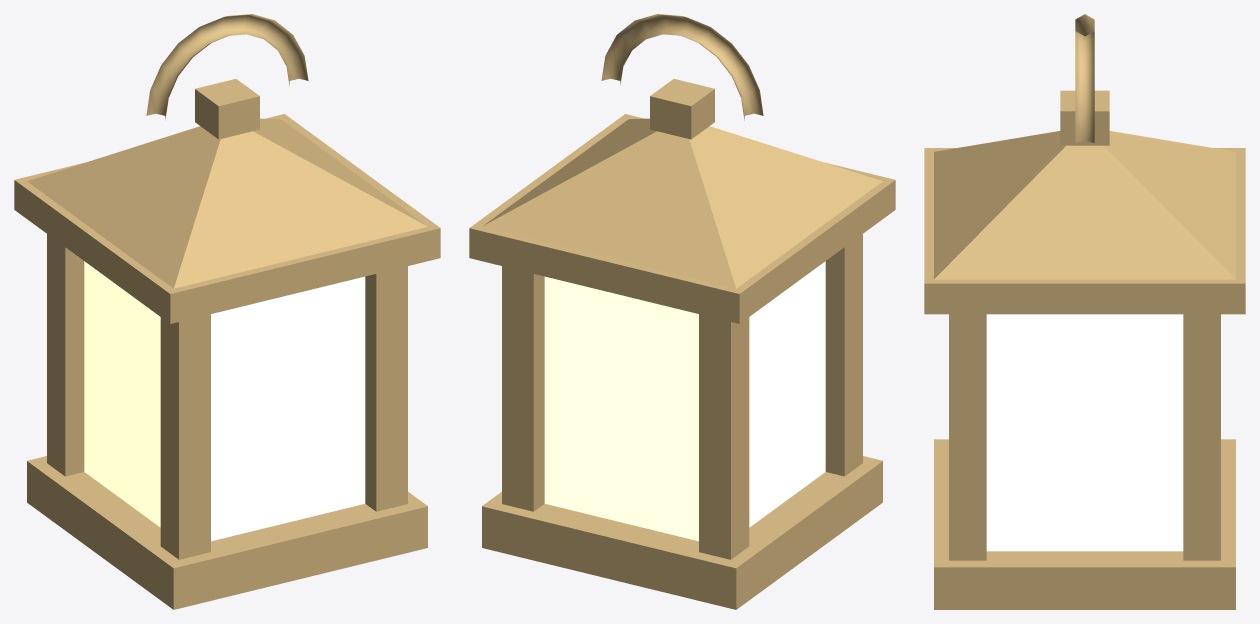
File: farolillo.glb
3 renders of one model, left to right at view 1: azimuth 30°, elevation 25°; view 2: azimuth 150°, elevation 25°; view 3: azimuth 270°, elevation 25°, orthographic. The views are drawn at different scales.
Parts seen in each view (by area): view 1: farolillo; view 2: farolillo; view 3: farolillo.
Part boxes in pixels (x1,y1,x2,y2): farolillo: (14,14,440,609); farolillo: (469,14,895,609); farolillo: (924,14,1245,609).
Bounding box in the file's own units: 0.17 × 0.306 × 0.17.
